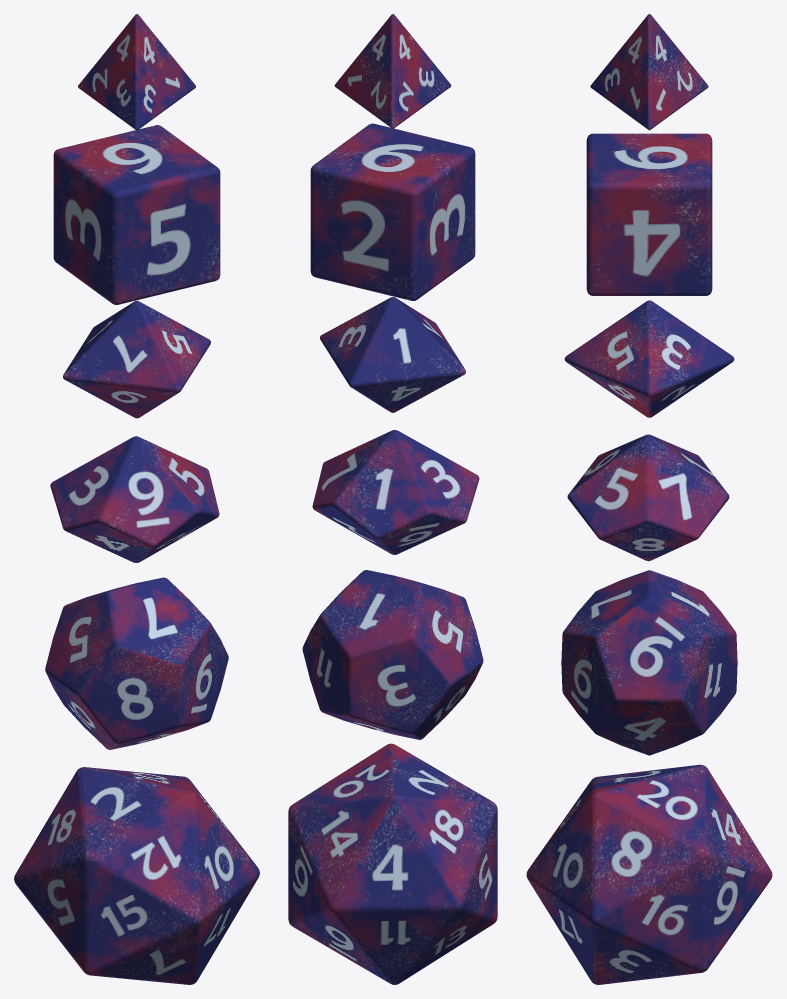
The picture shows the model from 3 angles, left to right: view 1: azimuth 30°, elevation 25°; view 2: azimuth 150°, elevation 25°; view 3: azimuth 270°, elevation 25°; orthographic projection.
Parts seen in each view (by area): view 1: d20_geo, d6_geo, d12_geo, d10_geo, d8_geo, d4_geo; view 2: d20_geo, d6_geo, d12_geo, d10_geo, d8_geo, d4_geo; view 3: d20_geo, d12_geo, d6_geo, d10_geo, d8_geo, d4_geo.
Part boxes in pixels (box(x1,y1,x2,y2)): d20_geo: box(14, 767, 259, 984); d6_geo: box(53, 125, 220, 304); d12_geo: box(45, 577, 228, 749); d10_geo: box(50, 436, 219, 562); d8_geo: box(63, 300, 210, 418); d4_geo: box(78, 14, 195, 130); d20_geo: box(288, 743, 497, 984); d6_geo: box(310, 123, 475, 300); d12_geo: box(302, 570, 483, 739); d10_geo: box(312, 430, 479, 554); d8_geo: box(320, 297, 465, 412); d4_geo: box(334, 14, 451, 128); d20_geo: box(526, 764, 772, 984); d12_geo: box(561, 570, 737, 755); d6_geo: box(586, 133, 712, 295); d10_geo: box(567, 434, 729, 561); d8_geo: box(564, 300, 734, 417); d4_geo: box(590, 14, 708, 130).
Size of the model in its own units: 0.0354 by 0.1684 by 0.0393.
6 materials, 6 textured.
